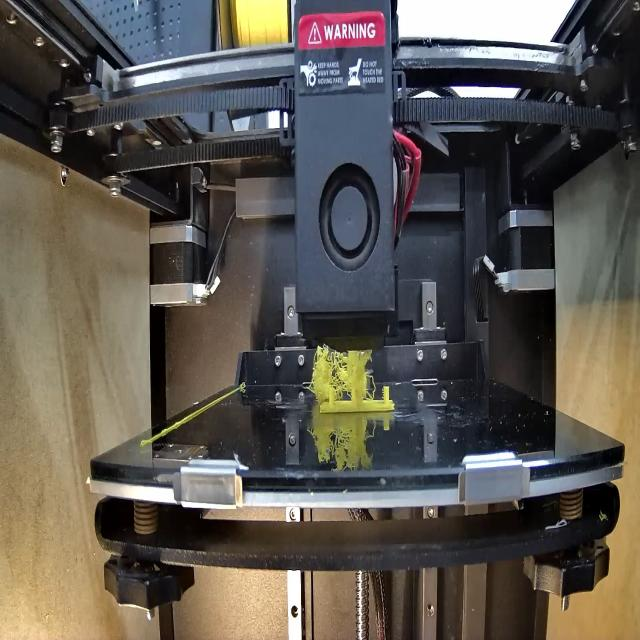spaghetti: (308, 341, 375, 402)
